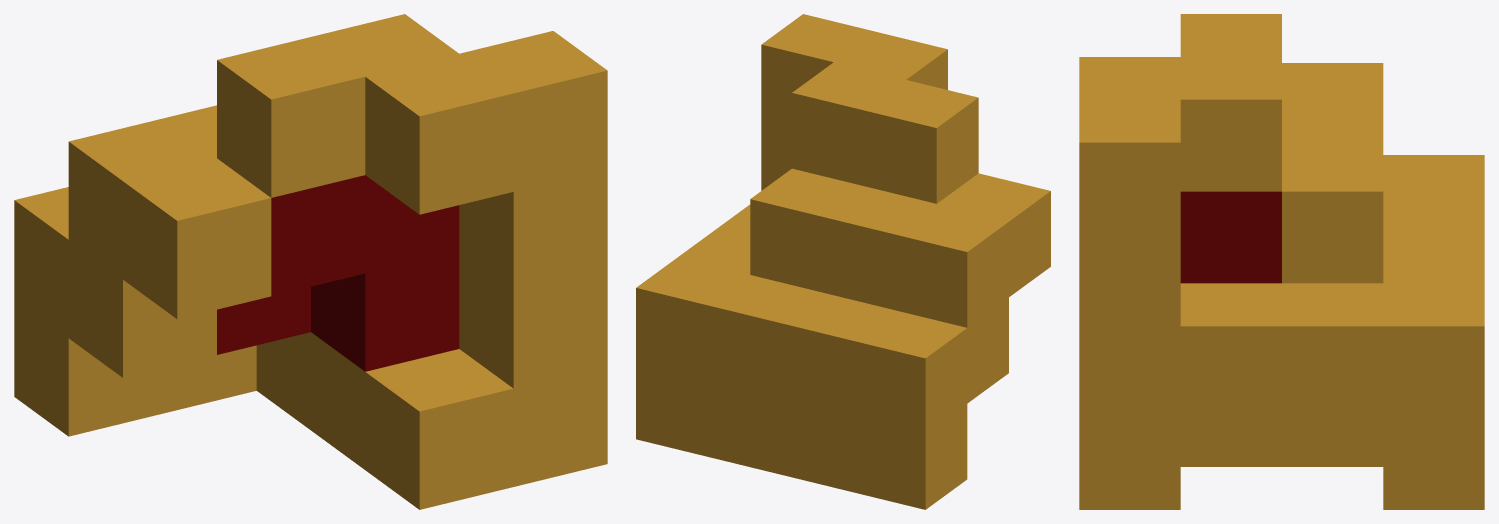
Rendered from fragment1.obj.
3 renders of one model, left to right at view 1: azimuth 30°, elevation 25°; view 2: azimuth 150°, elevation 25°; view 3: azimuth 270°, elevation 25°, orthographic. The views are drawn at different scales.
Bounding box in the file's own units: 4 × 4 × 4.
Materials: 1 (1 with a texture image).
